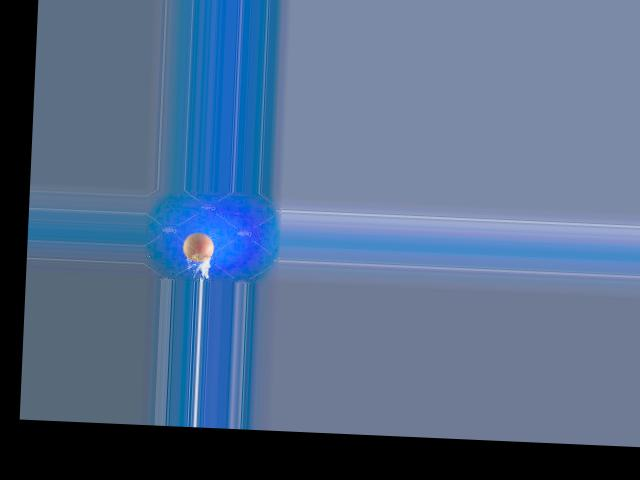tomato: (181, 232, 214, 262)
